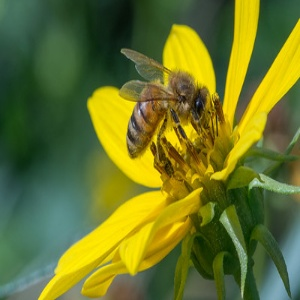bee: (116, 46, 214, 166)
